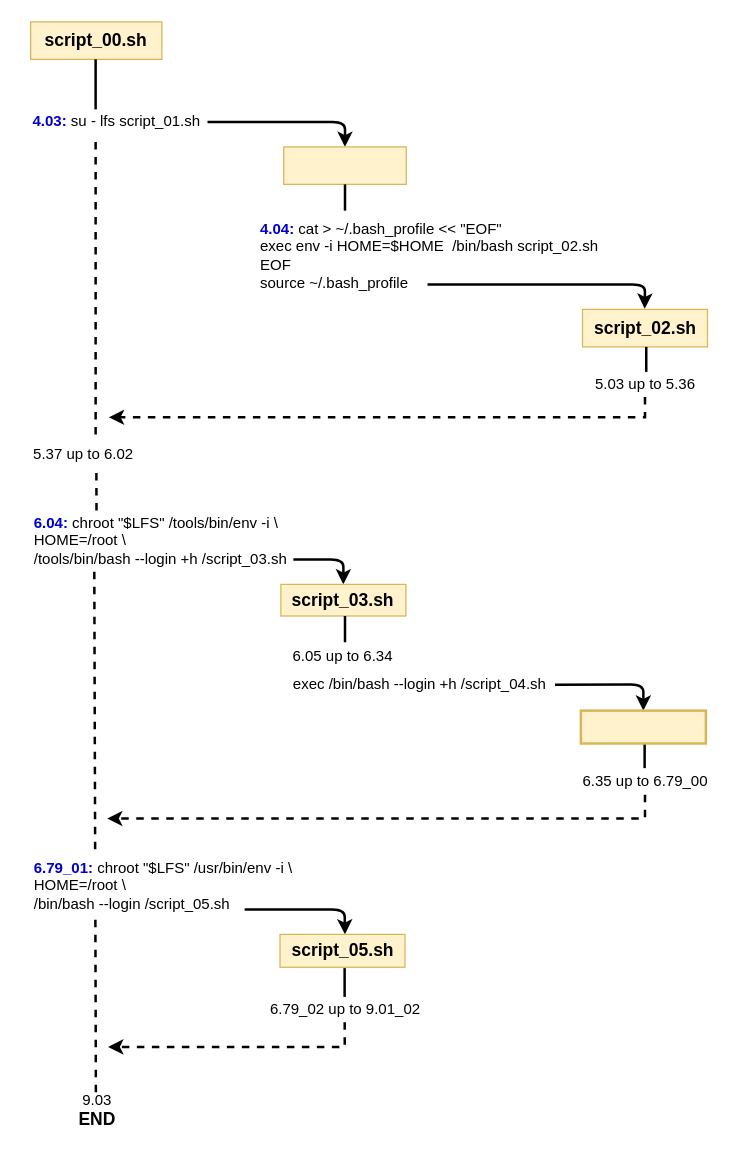
Image size: 738x1153. Some labels were removed from this diagram. The box of each missing label's shape, as (x1, y1, x2, y2) in pixels:
script_01.sh: (282, 146, 406, 184)
script_04.sh: (579, 709, 706, 744)
